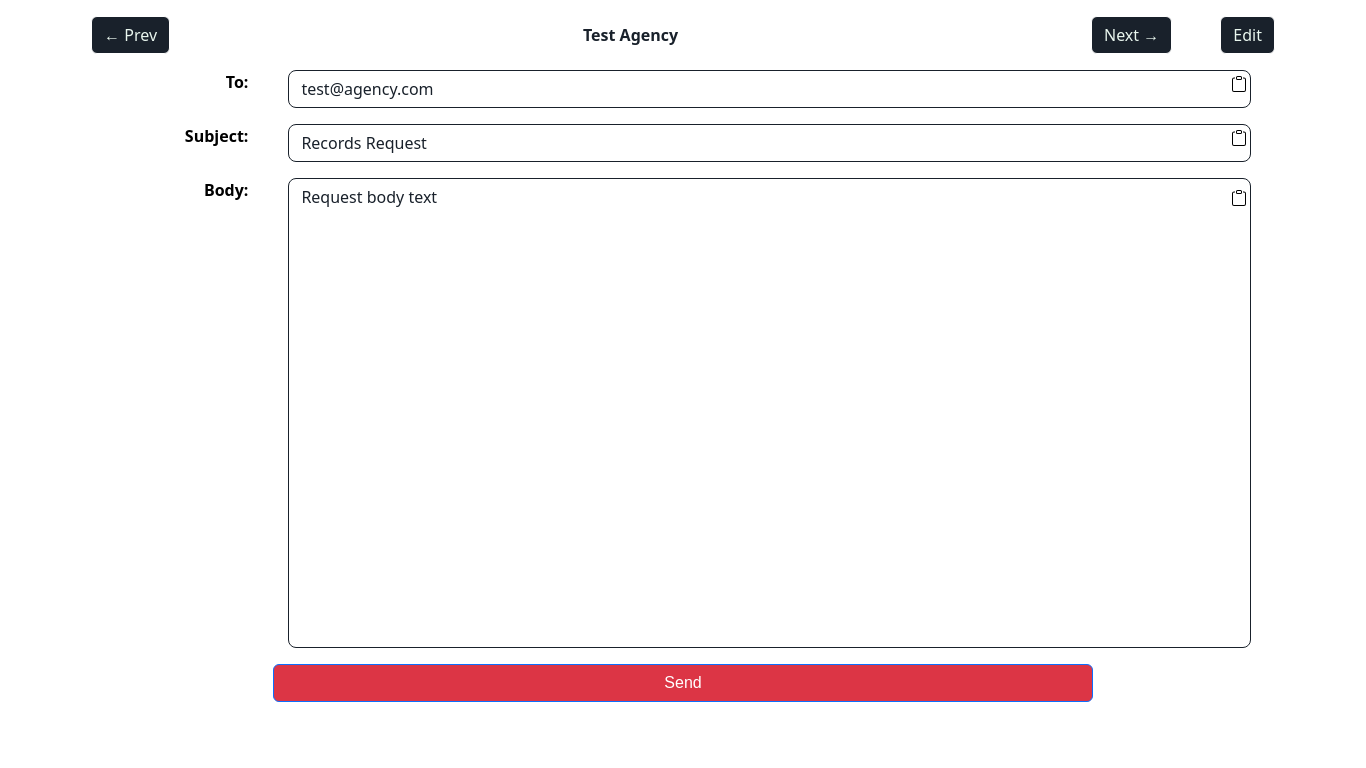
it: SendHome Component › shows confirmation modal when clicking send for already sent agency
Click the button "Send": (683, 683) [273,664,1093,702]
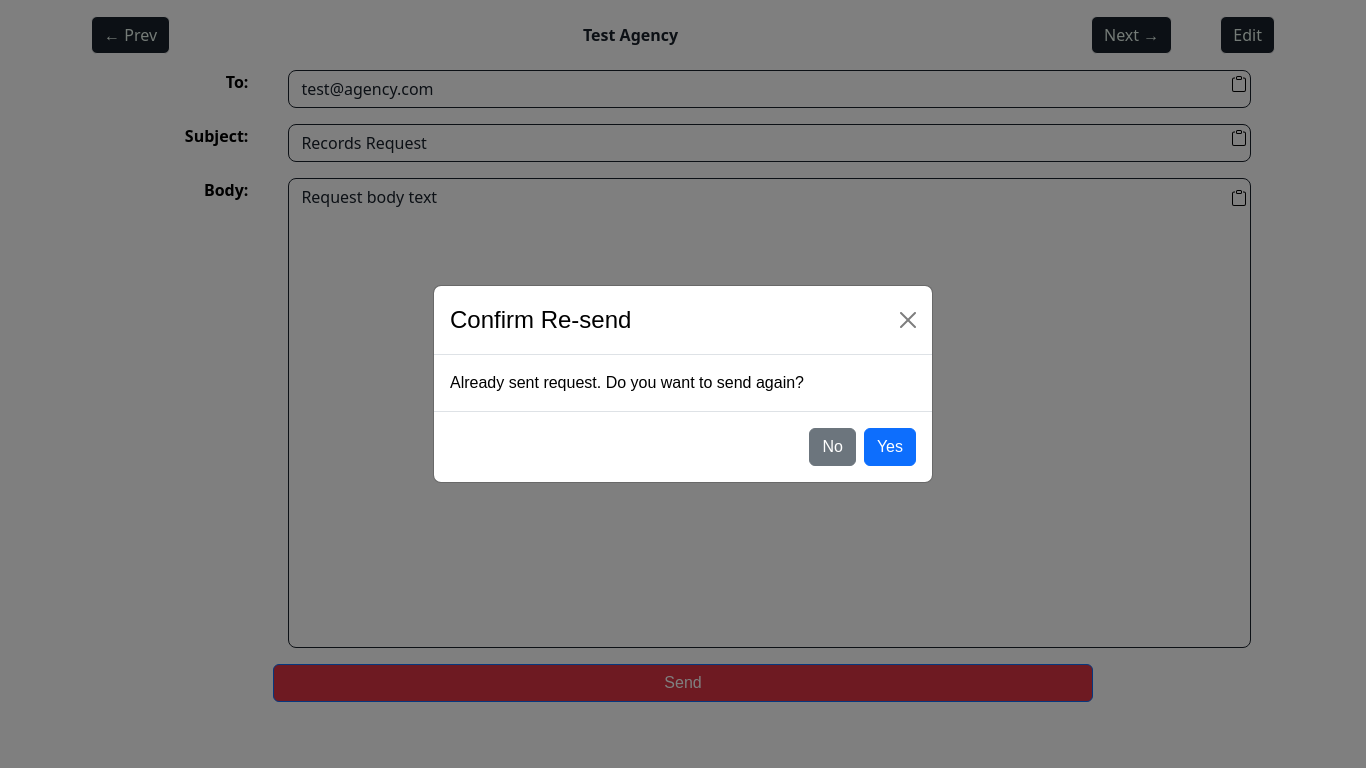
Expected: the text "Confirm Re-send" is shown, [450,302,631,338]
Expected: the text "Already sent request. Do you want to send again?" is shown, [450,374,804,391]
